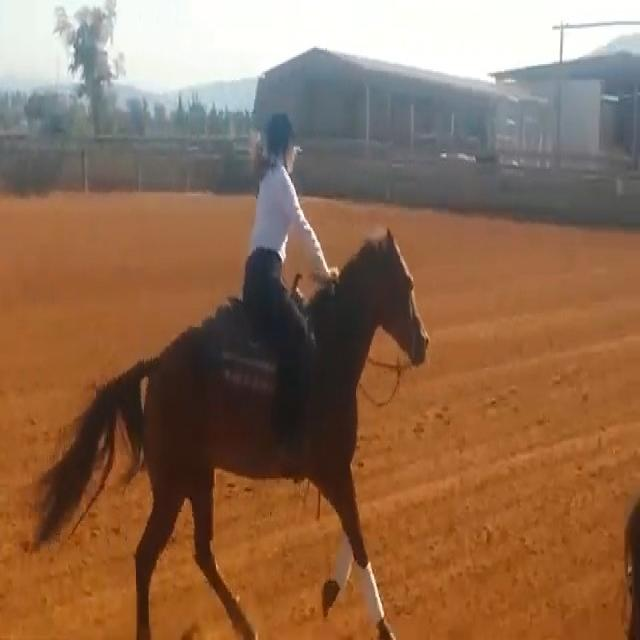horse: (31, 224, 431, 635)
